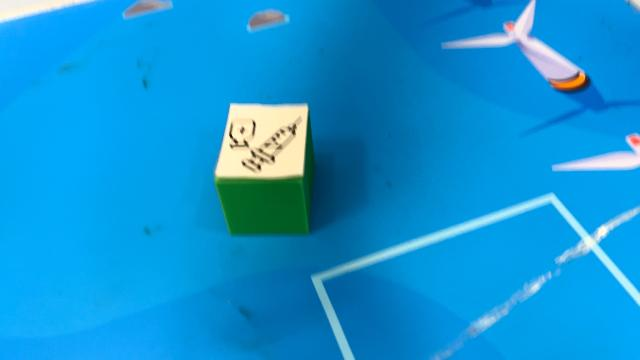syringe: (213, 102, 314, 236)
